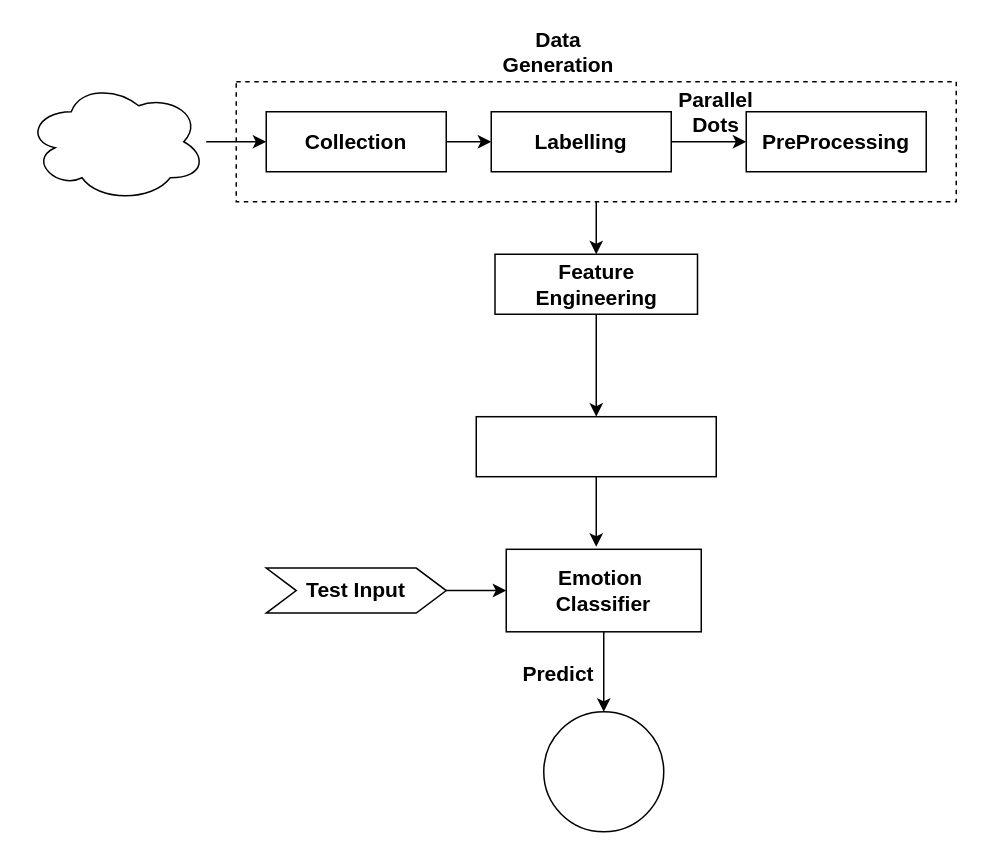
This 983x858 diagram has some shape labels left out. The shapes that lost their labels are listed below. From the top down, each one's box as (x1, y1, x2, y2) in pixels, then its label:
(25, 80, 206, 202): Online Sources
(475, 415, 716, 477): Machine Learning Algorithms
(542, 710, 664, 832): Emotion Label
